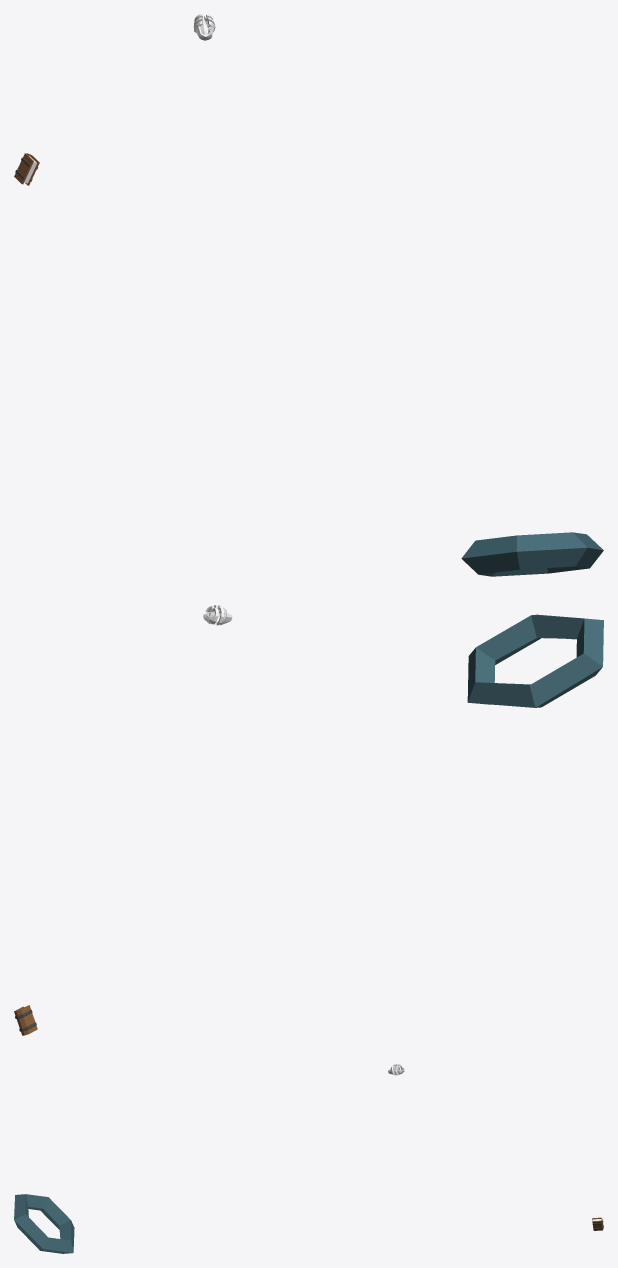
3 views of the same model, one above another, from view 1: azimuth 30°, elevation 25°; view 2: azimuth 150°, elevation 25°; view 3: azimuth 270°, elevation 25° (orthographic). The views are drawn at different scales.
Parts seen in each view (by area): view 1: Torus061_metal_0; view 2: Torus061_metal_0; view 3: Torus061_metal_0.
Boxes of the visible parts, left/top/right/bottom form: Torus061_metal_0: left=461, top=532, right=603, bottom=576; Torus061_metal_0: left=467, top=614, right=603, bottom=707; Torus061_metal_0: left=14, top=1194, right=74, bottom=1253.
Size of the model in its own units: 379 by 868 by 2567.
